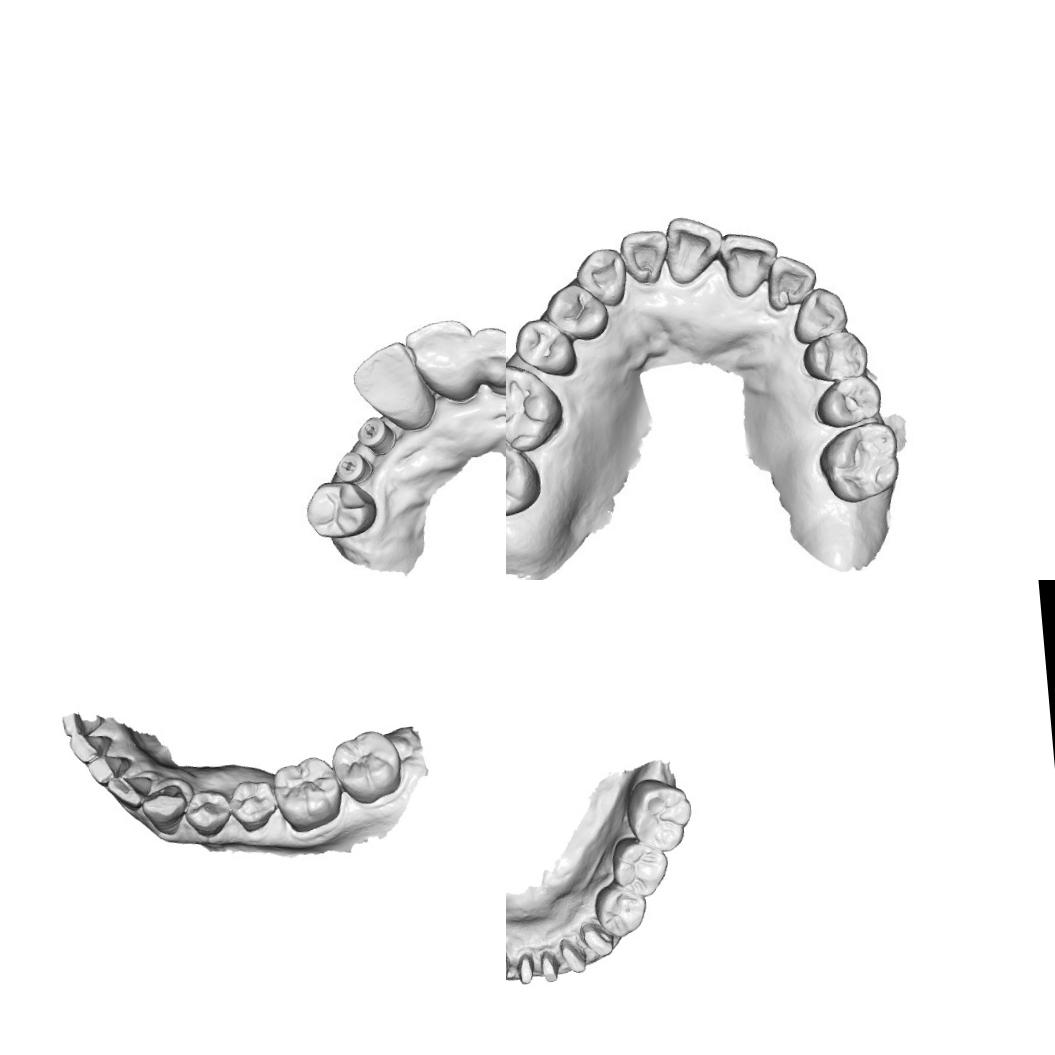canine: (572, 244, 633, 314), (786, 284, 853, 344), (138, 783, 190, 838)
crown: (578, 917, 615, 958), (556, 934, 586, 974), (536, 948, 560, 983), (513, 950, 536, 986), (506, 942, 511, 985)
implant_minus: (354, 415, 394, 448), (333, 449, 374, 481)
incisor: (399, 316, 480, 396), (346, 337, 421, 420), (658, 212, 726, 288), (716, 229, 780, 304), (758, 252, 821, 316), (466, 322, 506, 393), (620, 230, 664, 285), (104, 770, 154, 813), (67, 728, 114, 765), (84, 752, 133, 787), (60, 708, 106, 737)
molar: (816, 414, 906, 508), (328, 726, 404, 808), (270, 753, 344, 834), (622, 774, 694, 856), (506, 359, 567, 453), (608, 832, 671, 900), (506, 432, 543, 518)
premolar: (300, 476, 380, 541), (506, 314, 581, 378), (796, 328, 871, 386), (815, 372, 882, 435), (544, 278, 605, 344), (591, 880, 649, 940), (226, 776, 278, 834), (182, 787, 232, 839)
